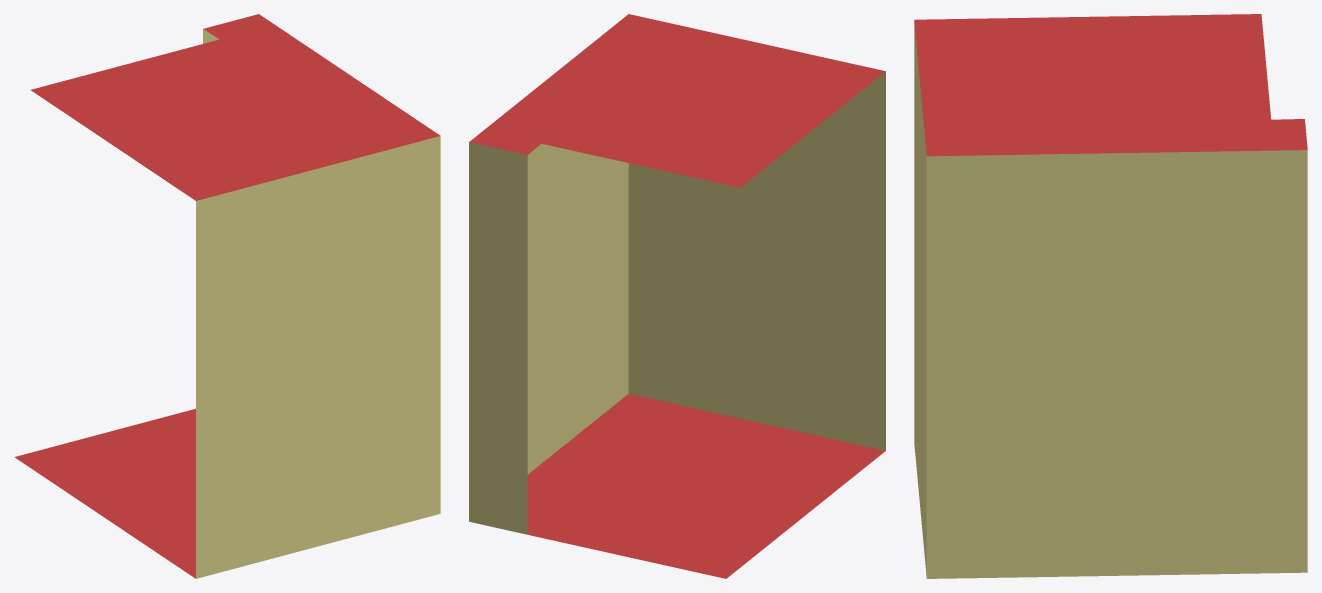
3 renders of one model, left to right at view 1: azimuth 30°, elevation 25°; view 2: azimuth 150°, elevation 25°; view 3: azimuth 270°, elevation 25°, orthographic. The views are drawn at different scales.
Bounding box in the file's own units: 6.04 × 7.03 × 8.33.
